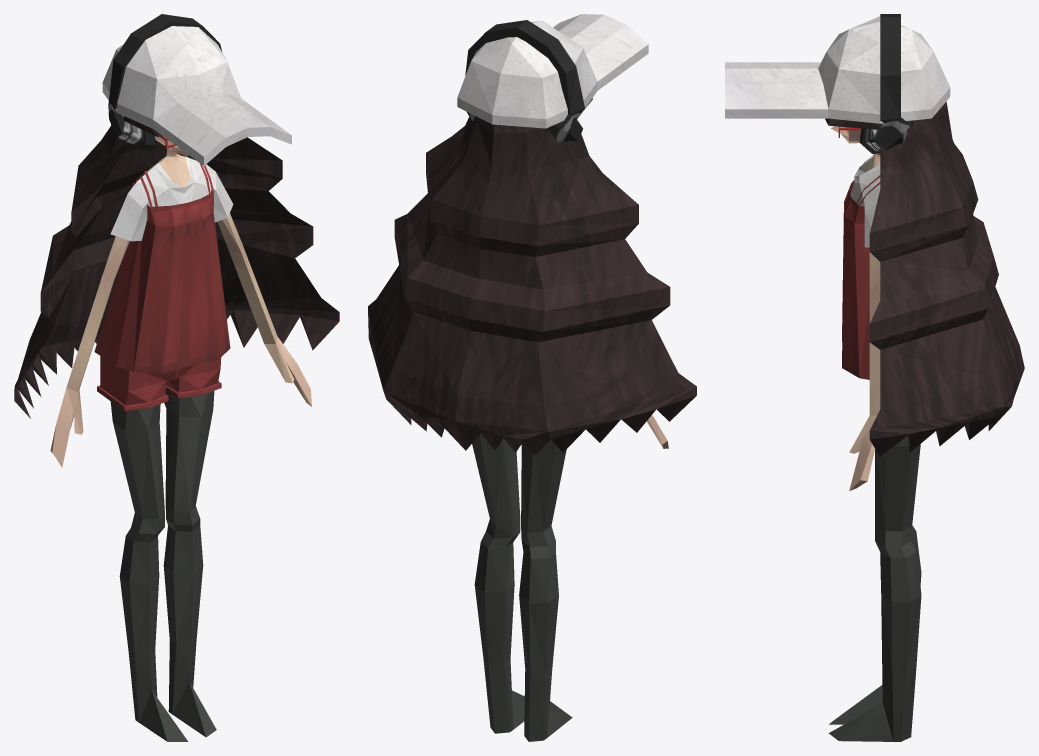
The model's file is teiri.dae.
3 views of the same model, side by side, from view 1: azimuth 30°, elevation 25°; view 2: azimuth 150°, elevation 25°; view 3: azimuth 270°, elevation 25° (orthographic).
Visible parts, largest first — view 1: Plane; view 2: Plane; view 3: Plane.
Boxes of the visible parts, x1,y1,x2,y2 form: Plane: (14,14,339,741); Plane: (368,14,696,741); Plane: (725,14,1024,741).
Bounding box in the file's own units: 3.7 × 2.9 × 7.6.
1 material, 1 textured.
